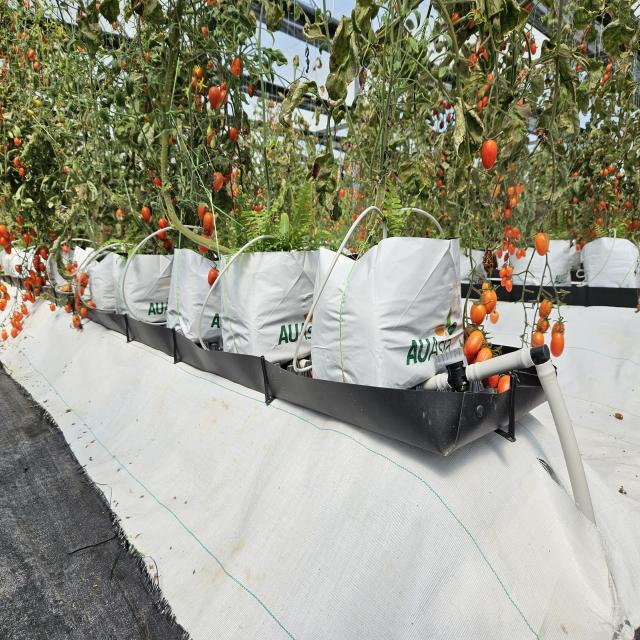Soilbag: (309, 231, 475, 381), (211, 244, 320, 358)
plant: (312, 0, 472, 242)
